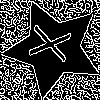X: (28, 23, 81, 66)
